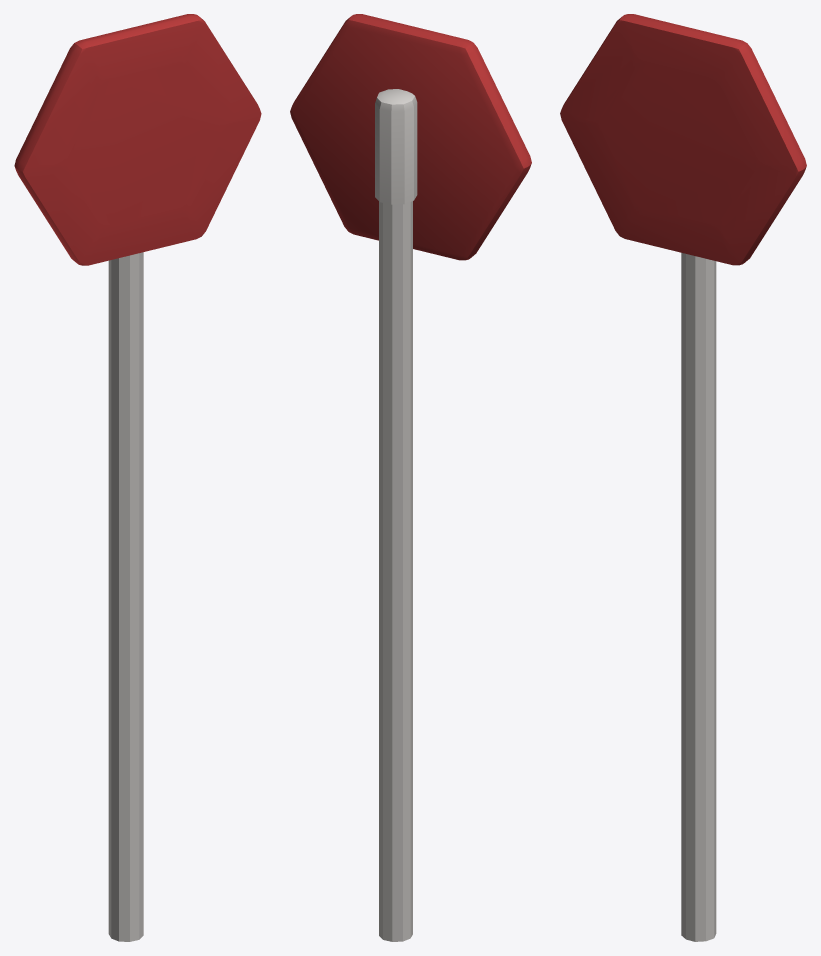
The model's file is SM_traffic_sign_03.fbx.
The picture shows the model from 3 angles, left to right: view 1: azimuth 30°, elevation 25°; view 2: azimuth 150°, elevation 25°; view 3: azimuth 330°, elevation 25°; orthographic projection. The views are drawn at different scales.
Parts seen in each view (by area): view 1: Object32412; view 2: Object32412; view 3: Object32412.
Part boxes in pixels (<box>): Object32412: <box>14,14,261,941</box>; Object32412: <box>290,14,531,941</box>; Object32412: <box>560,14,806,941</box>.
Size of the model in its own units: 34.31 by 125 by 7.39.
